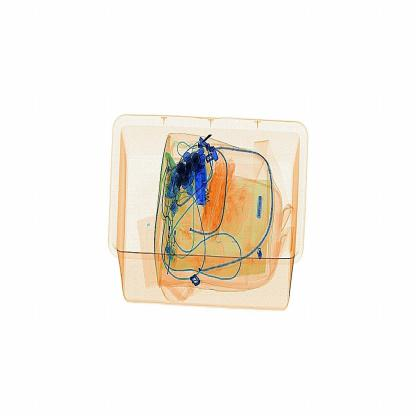scissors: (184, 157, 212, 211)
